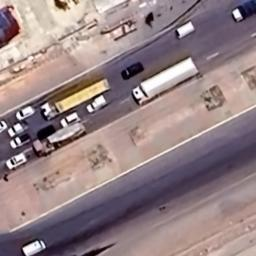SUV: (4, 152, 30, 171), (59, 110, 82, 128), (14, 105, 37, 121)
others: (34, 121, 88, 159), (20, 239, 50, 256)
pickup: (10, 133, 31, 150), (8, 121, 30, 137)
sedan: (0, 119, 8, 134)
truck: (131, 56, 202, 106), (41, 74, 112, 123), (231, 0, 256, 24)
van: (174, 18, 196, 42), (86, 94, 109, 115)
